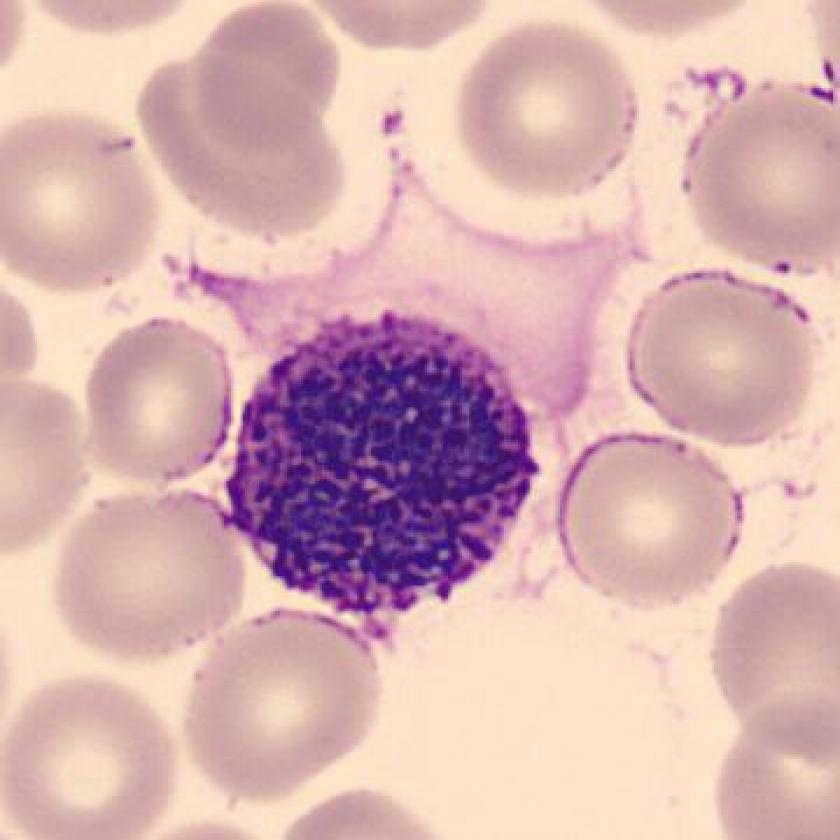basophil: (220, 300, 566, 638)
